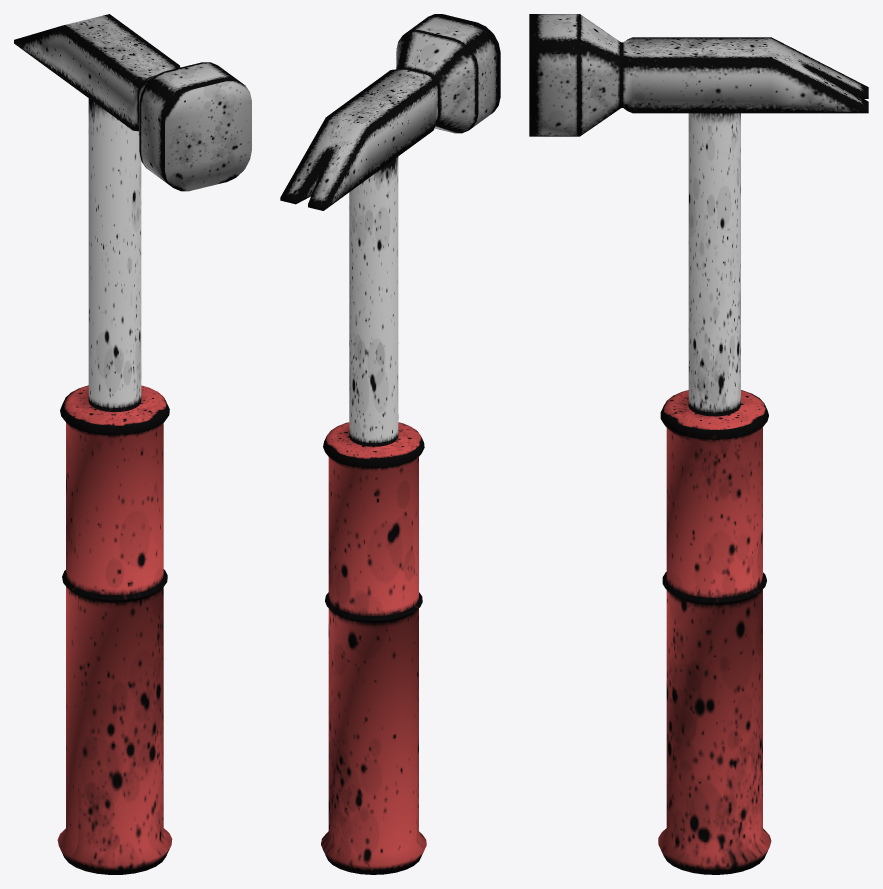
Rendered from hammer.obj.
3 renders of one model, left to right at view 1: azimuth 30°, elevation 25°; view 2: azimuth 150°, elevation 25°; view 3: azimuth 270°, elevation 25°, orthographic. The views are drawn at different scales.
Parts seen in each view (by area): view 1: hammer; view 2: hammer; view 3: hammer.
Boxes of the visible parts, <box> form: hammer: <box>14,14,251,874</box>; hammer: <box>280,14,500,874</box>; hammer: <box>529,14,868,874</box>.
Size of the model in its own units: 0.2386 by 1.93 by 0.7126.
